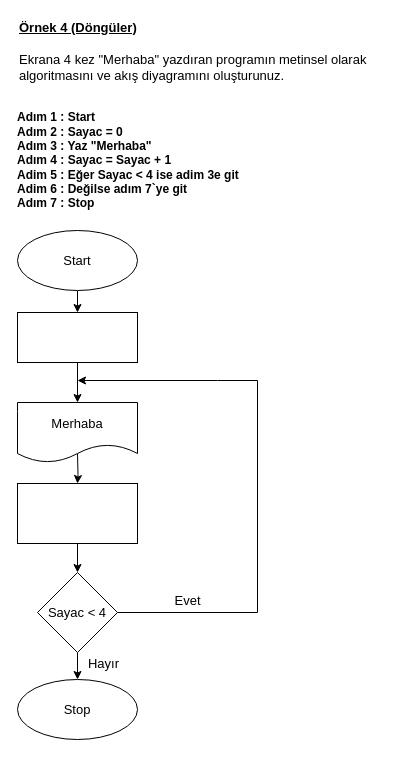
Image size: 395x757. Some labels were removed from this diagram. The shapes that lost their labels are listed below. From the top down, each one's centre as x and y in pixels, then its label:
At pixel 77 337: "Sayac = 0".
At pixel 77 513: "Sayac = Sayac + 1".
